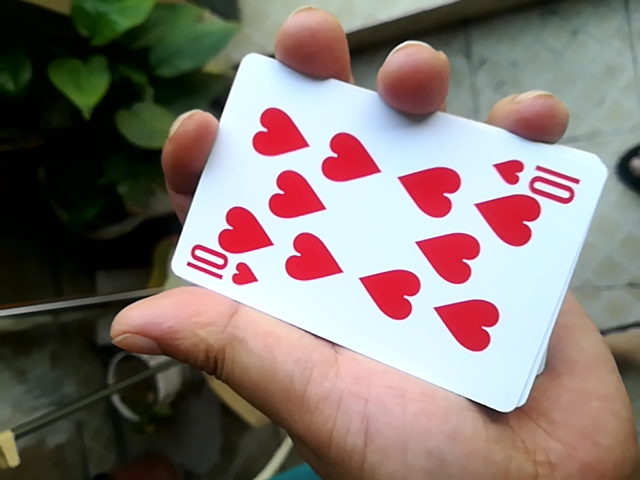hx 10: (168, 46, 609, 403)
